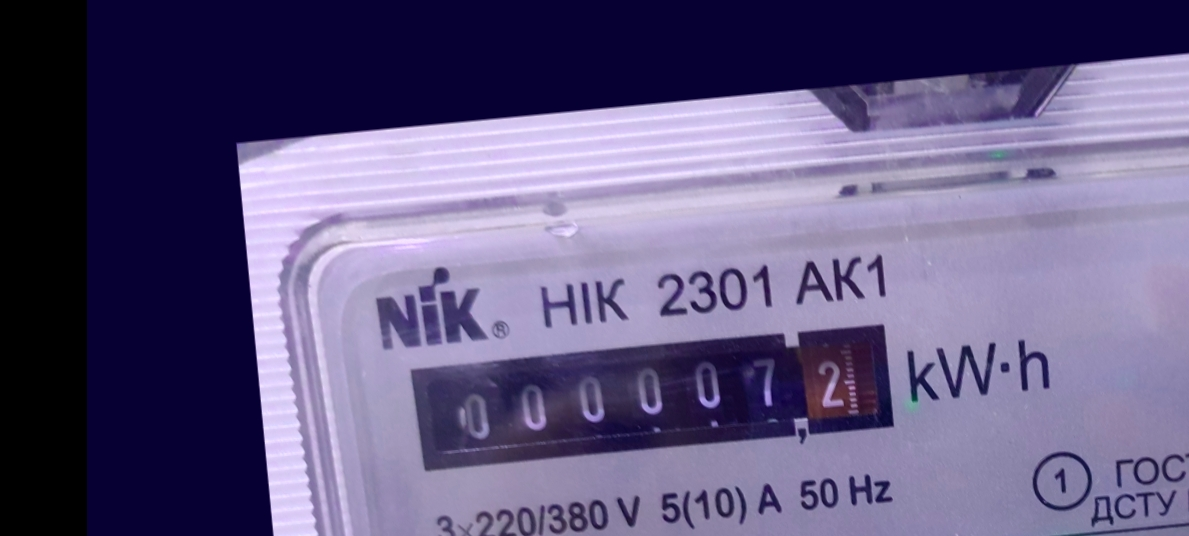0: (514, 378, 554, 433), (690, 356, 727, 412), (632, 361, 668, 417), (575, 370, 610, 425), (459, 388, 495, 441)
2: (814, 356, 849, 410)
7: (748, 352, 783, 410)
screen: (392, 302, 917, 492)
